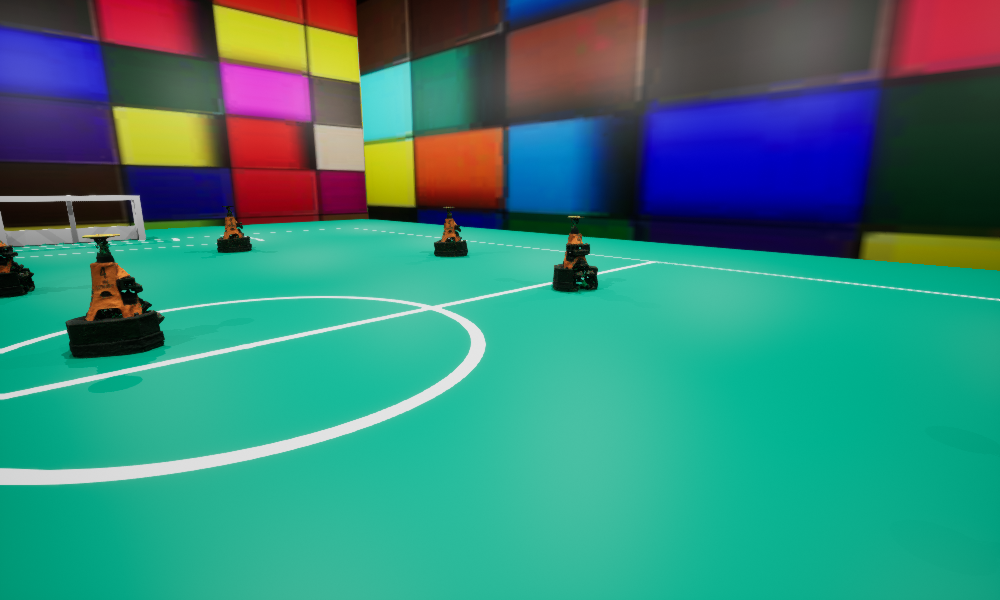0 orange robot TechUnited: (65, 234, 164, 357), (553, 216, 597, 291), (0, 240, 34, 297), (434, 207, 467, 256), (217, 206, 251, 252)
